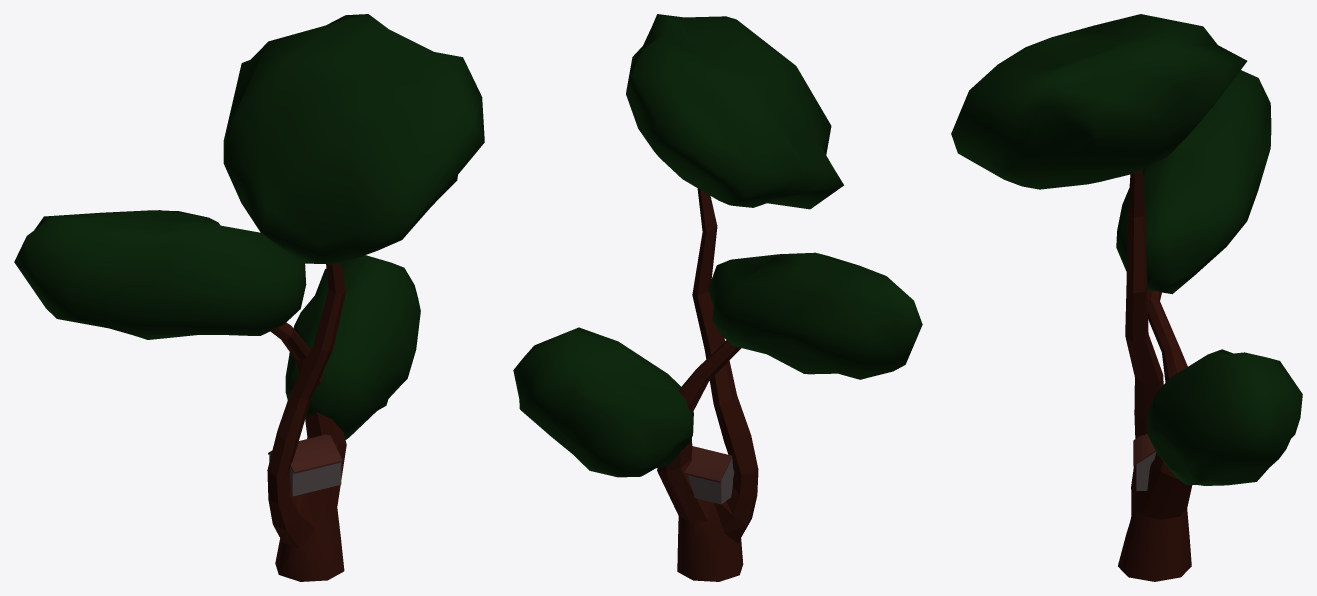
The model's file is Basetree.FBX.
3 views of the same model, side by side, from view 1: azimuth 30°, elevation 25°; view 2: azimuth 150°, elevation 25°; view 3: azimuth 270°, elevation 25° (orthographic). The views are drawn at different scales.
Visible parts, largest first — view 1: Treetrunk; view 2: Treetrunk; view 3: Treetrunk.
Boxes of the visible parts, x1,y1,x2,y2 form: Treetrunk: (14, 14, 484, 581); Treetrunk: (513, 14, 922, 581); Treetrunk: (951, 14, 1302, 581).
Size of the model in its own units: 259 by 185 by 321.
